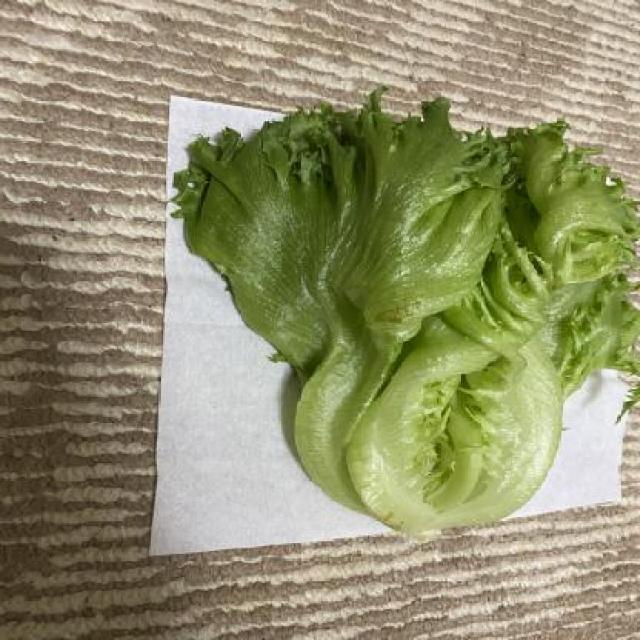lettuce: (171, 84, 640, 545)
